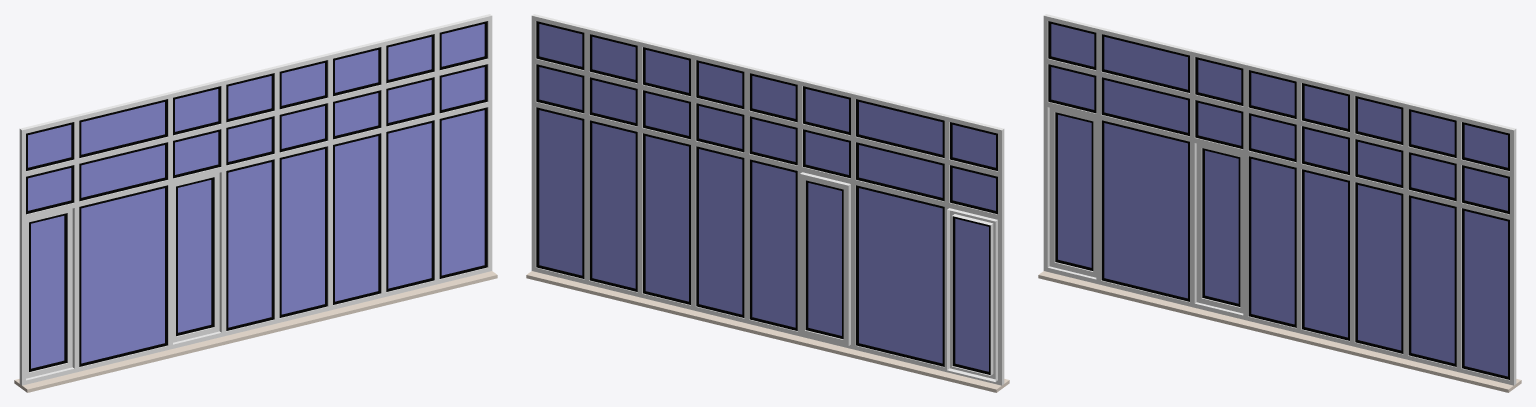
The model's file is ventana2.fbx.
3 renders of one model, left to right at view 1: azimuth 30°, elevation 25°; view 2: azimuth 150°, elevation 25°; view 3: azimuth 330°, elevation 25°, orthographic.
Visible parts, largest first — view 1: Window; view 2: Window; view 3: Window.
Boxes of the visible parts, x1,y1,x2,y2 form: Window: (14, 14, 497, 392); Window: (526, 14, 1009, 392); Window: (1038, 14, 1521, 392).
Bounding box in the file's own units: 582 × 306 × 28.
